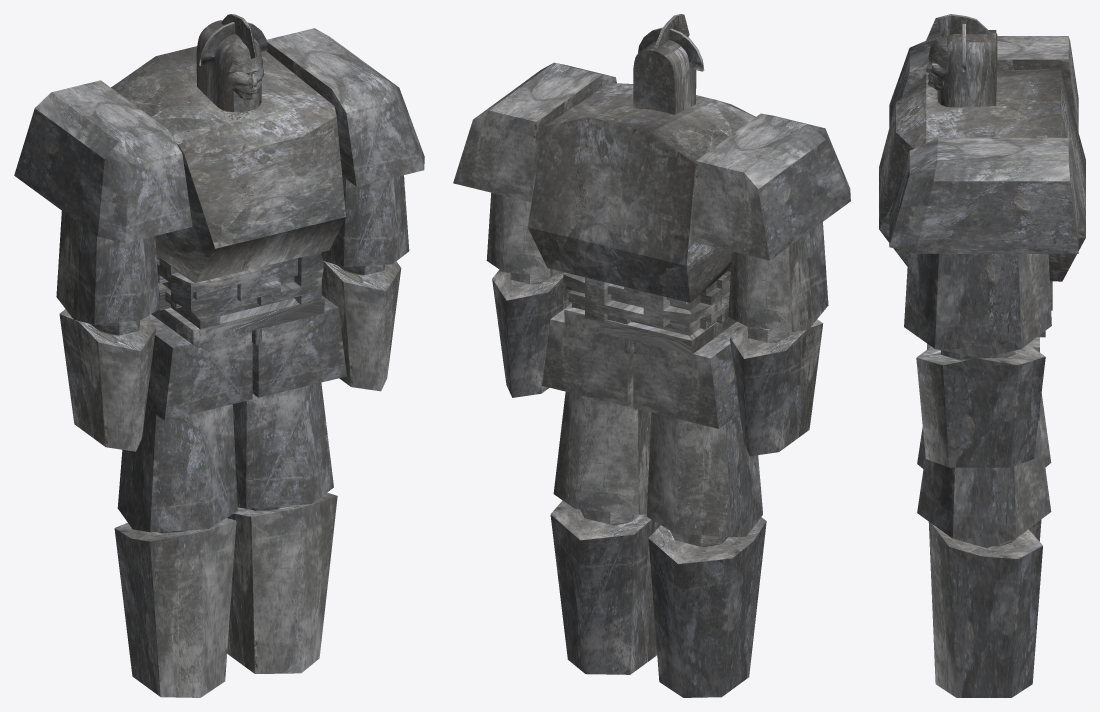
The model's file is Robot_2.fbx.
3 views of the same model, side by side, from view 1: azimuth 30°, elevation 25°; view 2: azimuth 150°, elevation 25°; view 3: azimuth 270°, elevation 25° (orthographic). The views are drawn at different scales.
Visible parts, largest first — view 1: pasted__pCylinder2, pasted__pCube11 (×2), pasted__pasted__pasted__pCube4 (×2), pasted__pasted__pasted__pasted__pCube4 (×2), pasted__pasted__pCube11, pCube11, pasted__pCube5, pasted__pCube9, pasted__pasted__pCube5, pCube10, pCube9, pCube8; view 2: pasted__pCylinder2, pasted__pCube11 (×2), pasted__pasted__pasted__pCube4 (×2), pasted__pasted__pCube11, pasted__pasted__pasted__pasted__pCube4 (×2), pCube11, pasted__pCube5, pasted__pCube9, pasted__pasted__pCube5, pCube10, pCube9, pCube8; view 3: pasted__pCube11 (×2), pCube11, pasted__pCylinder2, pasted__pasted__pasted__pasted__pCube4 (×2), pasted__pasted__pCube5, pasted__pasted__pasted__pCube4.
Boxes of the visible parts, x1,y1,x2,y2 form: pasted__pCylinder2: (111,14,345,282); pasted__pCube11 (×2): (14,80,337,673); pasted__pasted__pasted__pCube4 (×2): (56,211,333,508); pasted__pasted__pasted__pasted__pCube4 (×2): (117,175,409,532); pasted__pasted__pCube11: (114,518,236,697); pCube11: (266,28,424,186); pasted__pCube5: (59,309,155,451); pasted__pCube9: (146,314,252,420); pasted__pasted__pCube5: (321,261,401,391); pCube10: (156,252,323,329); pCube9: (252,295,346,397); pCube8: (151,296,324,344); pasted__pCylinder2: (528,14,755,302); pasted__pCube11 (×2): (550,113,850,674); pasted__pasted__pasted__pCube4 (×2): (553,222,828,514); pasted__pasted__pCube11: (648,517,766,697); pasted__pasted__pasted__pasted__pCube4 (×2): (486,192,762,537); pCube11: (453,62,616,202); pasted__pCube5: (729,319,823,456); pasted__pCube9: (633,321,740,428); pasted__pasted__pCube5: (492,269,571,397); pCube10: (563,267,731,335); pCube9: (542,303,633,406); pCube8: (564,304,736,354); pasted__pCube11 (×2): (889,36,1078,697); pCube11: (889,137,1078,253); pasted__pCylinder2: (879,14,1085,281); pasted__pasted__pasted__pasted__pCube4 (×2): (904,252,1051,468); pasted__pasted__pCube5: (916,344,1045,467); pasted__pasted__pasted__pCube4: (917,420,1051,548).
Size of the model in its own units: 9.74 by 18.81 by 5.47.
